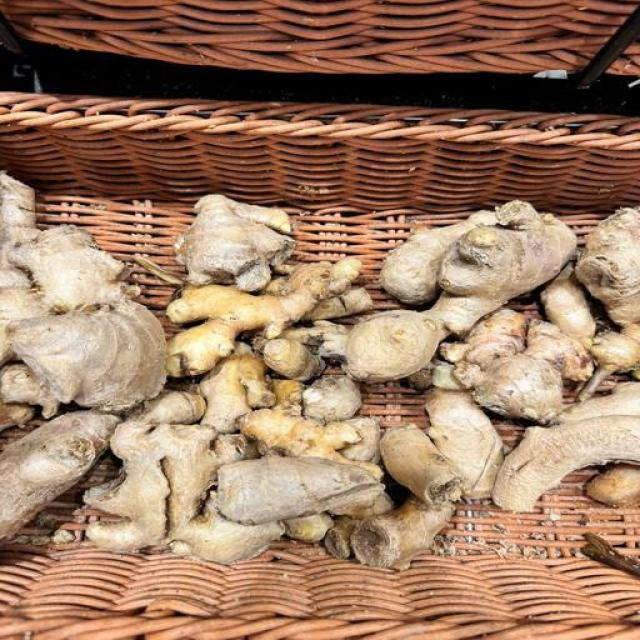organic: (0, 94, 639, 332), (0, 0, 636, 73)
